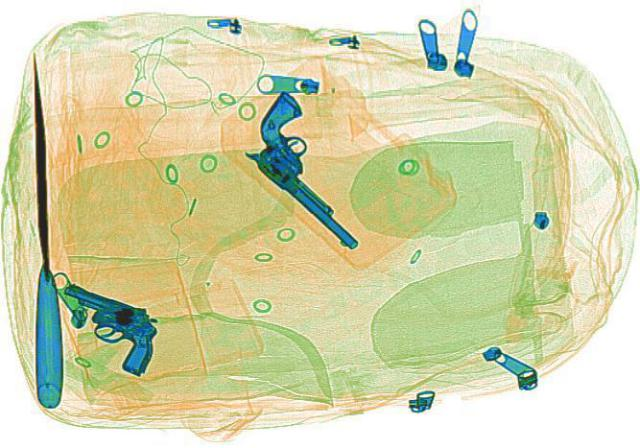Gun: (205, 89, 427, 249), (20, 278, 186, 375)
Knife: (14, 51, 66, 405)
